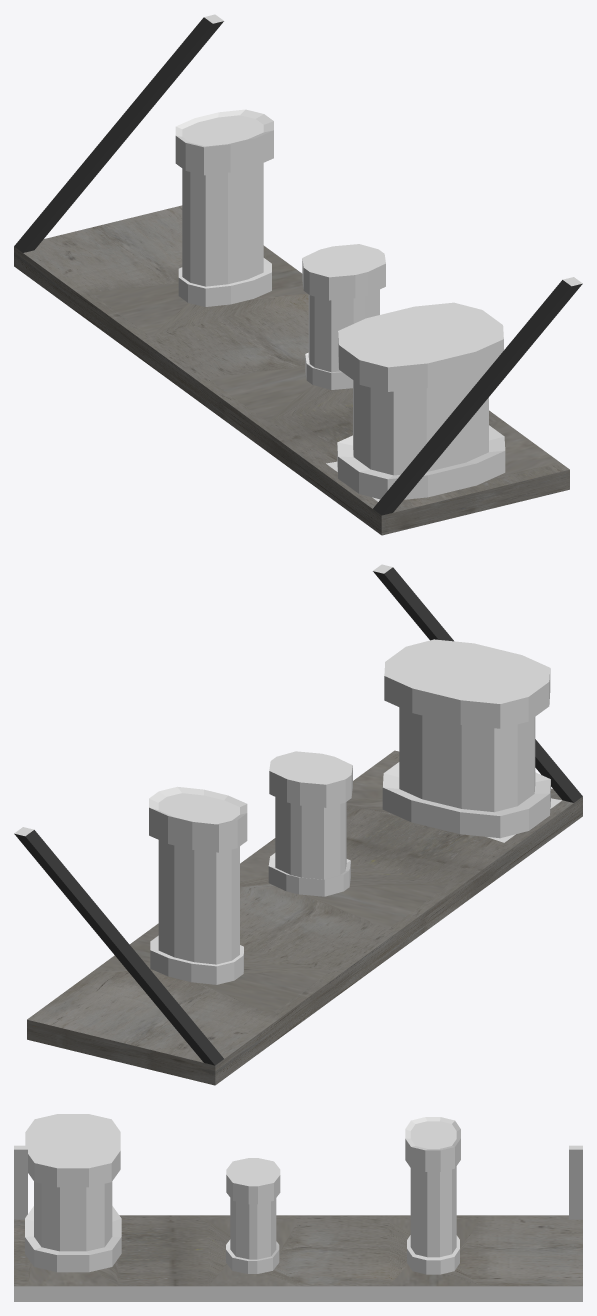
Rendered from LabShelf.fbx.
3 views of the same model, one above another, from view 1: azimuth 30°, elevation 25°; view 2: azimuth 150°, elevation 25°; view 3: azimuth 270°, elevation 25° (orthographic). The views are drawn at different scales.
Parts seen in each view (by area): view 1: shelf; view 2: shelf; view 3: shelf.
Part boxes in pixels (x1,y1,x2,y2): shelf: (14,14,582,535); shelf: (14,564,582,1085); shelf: (14,1114,582,1301).
Bounding box in the file's own units: 214 × 206 × 676.
4 materials, 1 textured.
